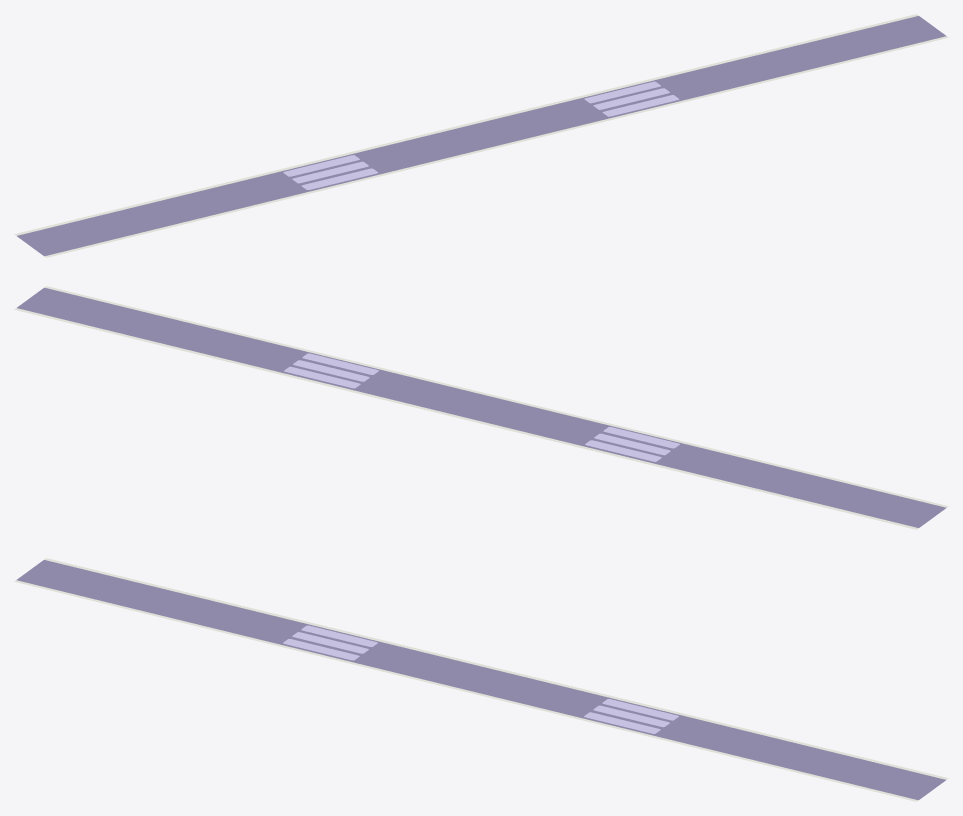
File: road.fbx
3 views of the same model, one above another, from view 1: azimuth 30°, elevation 25°; view 2: azimuth 150°, elevation 25°; view 3: azimuth 330°, elevation 25° (orthographic).
Parts seen in each view (by area): view 1: road; view 2: road; view 3: road.
Boxes of the visible parts, x1,y1,x2,y2 form: road: (14, 14, 948, 257); road: (14, 286, 948, 529); road: (14, 558, 948, 801).
Size of the model in its own units: 2266 by 0.7236 by 141.
